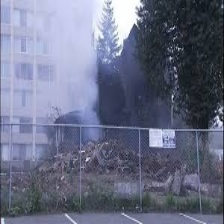smoke: (22, 9, 121, 126)
